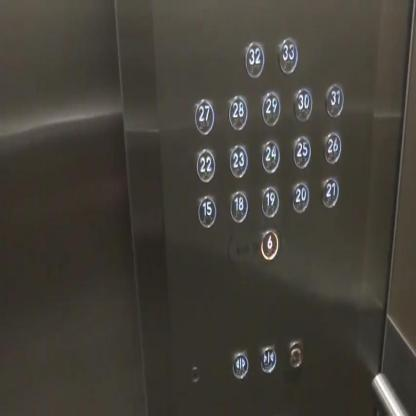15: (196, 189, 218, 229)
18: (228, 187, 248, 225)
19: (260, 180, 282, 220)
20: (290, 176, 311, 216)
21: (319, 174, 340, 211)
22: (195, 144, 216, 184)
23: (227, 140, 248, 180)
24: (260, 136, 281, 176)
25: (291, 130, 313, 170)
26: (321, 127, 343, 166)
27: (193, 95, 214, 134)
28: (227, 92, 248, 132)
29: (260, 86, 282, 126)
30: (292, 85, 314, 125)
31: (324, 79, 345, 119)
32: (244, 39, 265, 79)
33: (277, 35, 298, 74)
6: (258, 222, 280, 262)
close: (257, 340, 277, 376)
keyhole: (286, 337, 304, 371), (188, 360, 200, 384)
open: (229, 344, 250, 384)
